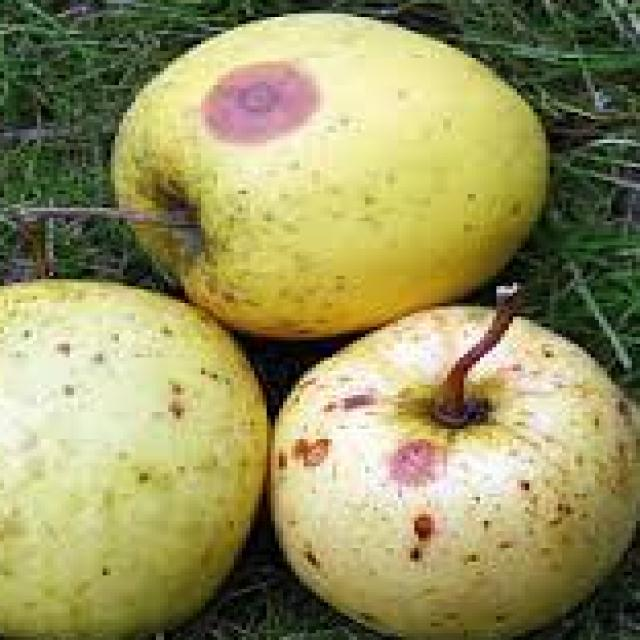inorganic: (90, 17, 563, 319), (283, 301, 633, 628), (5, 281, 270, 634)
